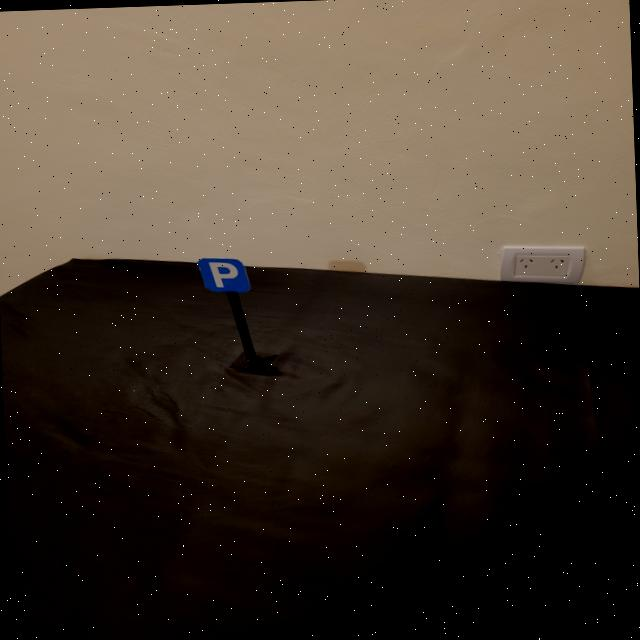parking: (197, 256, 250, 294)
